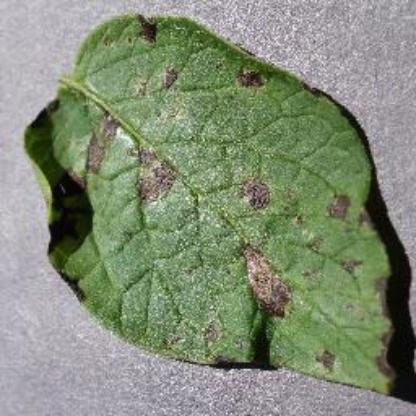Early-Blight: (24, 10, 398, 398)
